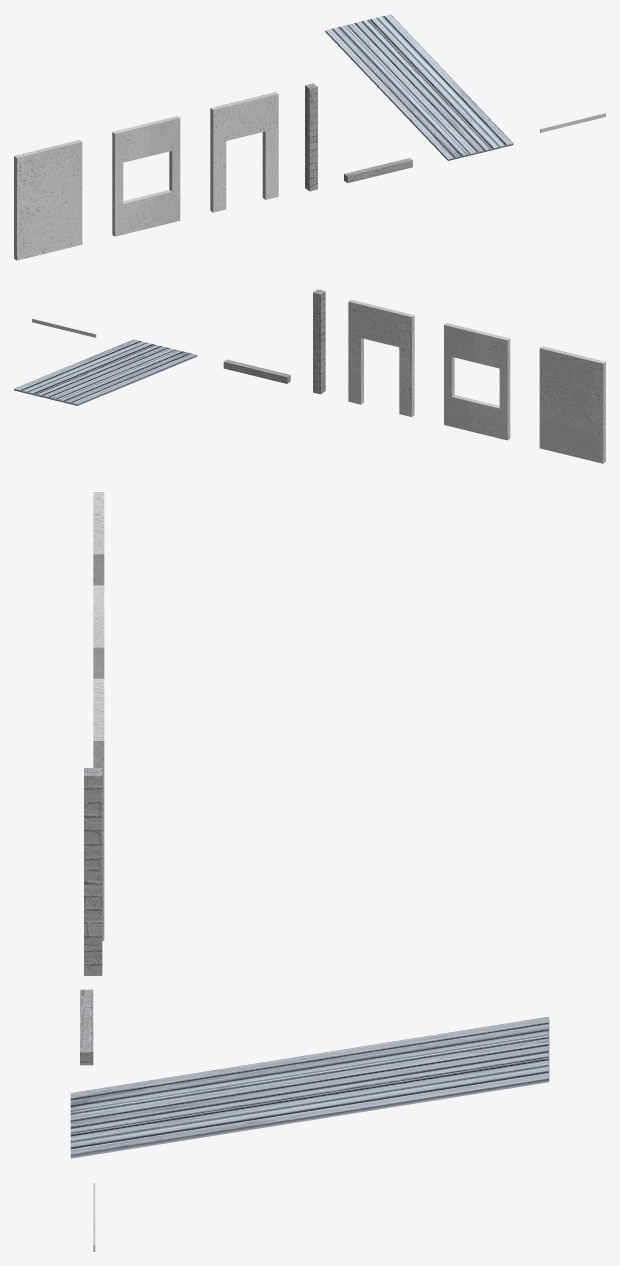
Rendered from HouseKit.fbx.
3 renders of one model, top to bottom at view 1: azimuth 30°, elevation 25°; view 2: azimuth 150°, elevation 25°; view 3: azimuth 270°, elevation 25°, orthographic. The views are drawn at different scales.
Visible parts, largest first — view 1: Yero, Wall_Grain, Wall_Window_Grain, Wall_DoorFrame_Grain, Brick_Post, Floor_Band_Grain; view 2: Wall_Grain, Yero, Wall_Window_Grain, Wall_DoorFrame_Grain, Brick_Post, Floor_Band_Grain, Yero_Edge; view 3: Yero, Brick_Post, Wall_DoorFrame_Grain, Wall_Window_Grain, Wall_Grain, Floor_Band_Grain.
Part boxes in pixels (box(x1,y1,x2,y2)): Yero: box(325, 14, 513, 160); Wall_Grain: box(14, 140, 82, 260); Wall_Window_Grain: box(112, 116, 180, 236); Wall_DoorFrame_Grain: box(210, 92, 278, 212); Brick_Post: box(305, 83, 317, 191); Floor_Band_Grain: box(344, 158, 412, 183); Wall_Grain: box(539, 346, 605, 463); Yero: box(14, 339, 197, 405); Wall_Window_Grain: box(444, 323, 510, 440); Wall_DoorFrame_Grain: box(348, 299, 414, 416); Brick_Post: box(313, 289, 325, 394); Floor_Band_Grain: box(223, 359, 290, 383); Yero_Edge: box(32, 318, 96, 337); Yero: box(70, 1016, 549, 1158); Brick_Post: box(84, 768, 102, 975); Wall_DoorFrame_Grain: box(93, 678, 104, 940); Wall_Window_Grain: box(93, 585, 104, 678); Wall_Grain: box(93, 492, 104, 585); Floor_Band_Grain: box(80, 989, 93, 1065).
Size of the model in its own units: 1800 by 300 by 651.
Materials: 3 (3 with a texture image).
